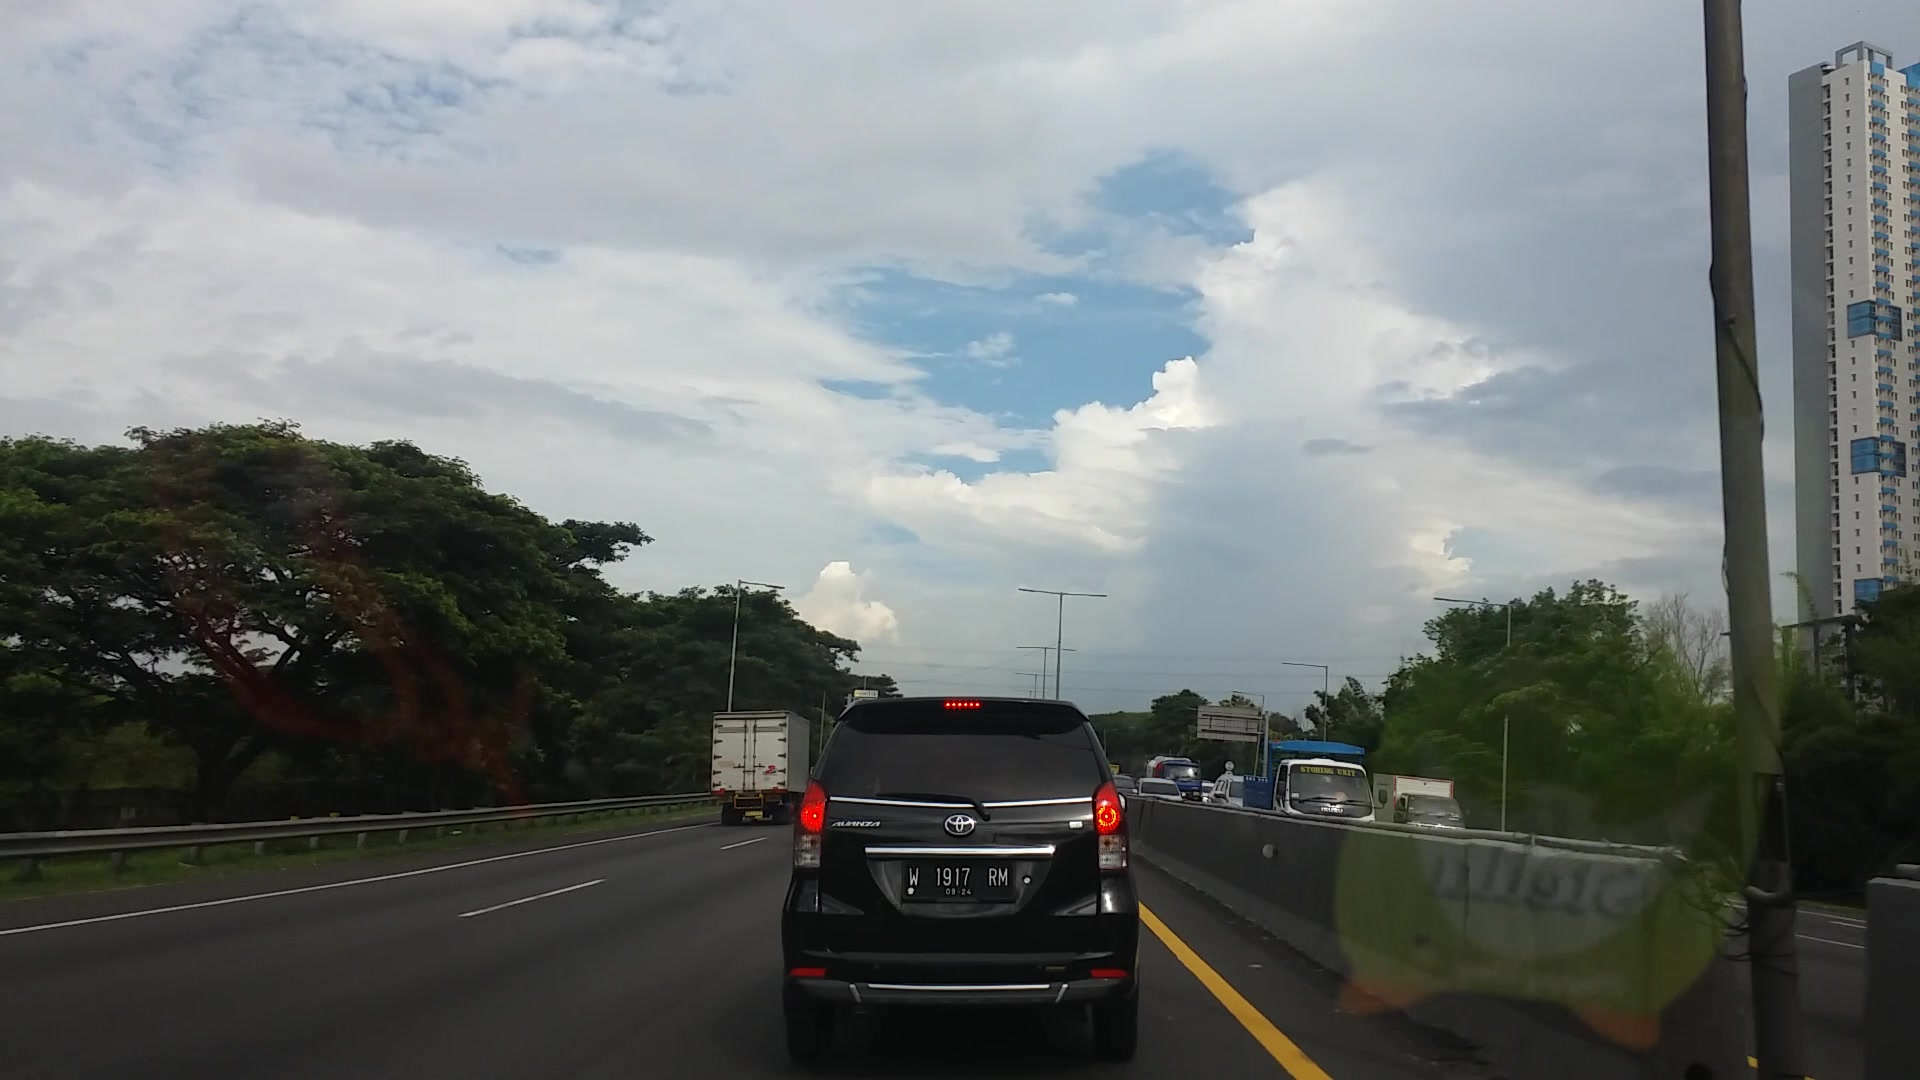plate_positive: (902, 860, 1015, 905)
